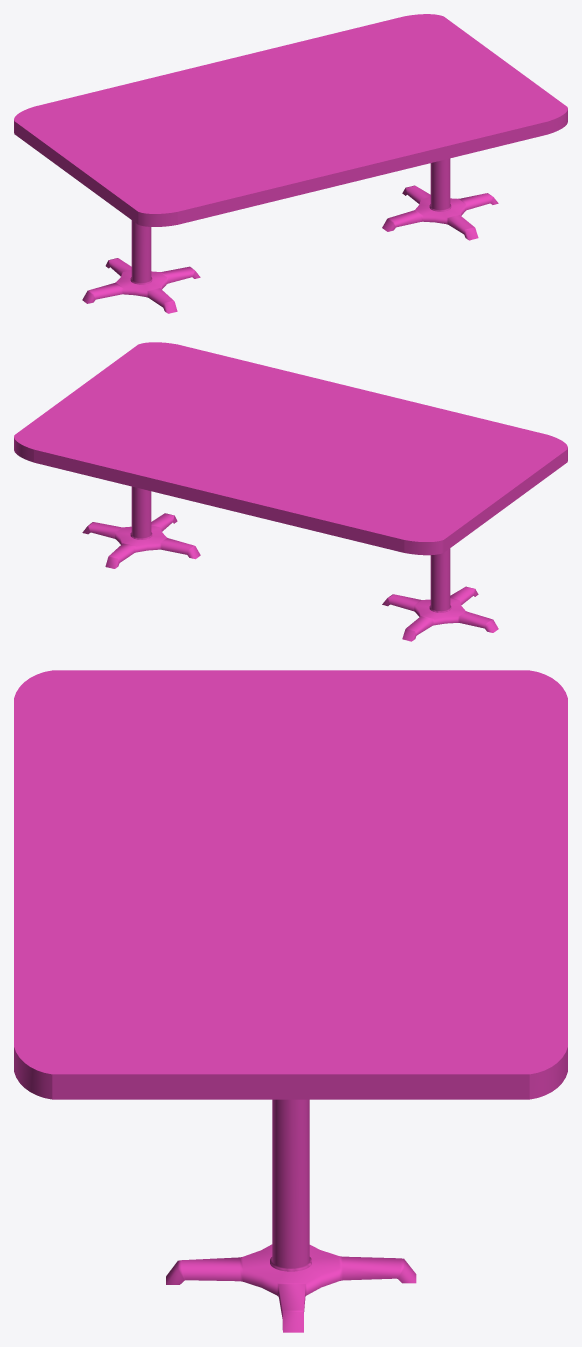
File: table_lowpoly.fbx
3 renders of one model, top to bottom at view 1: azimuth 30°, elevation 25°; view 2: azimuth 150°, elevation 25°; view 3: azimuth 270°, elevation 25°, orthographic. The views are drawn at different scales.
Visible parts, largest first — view 1: Table_lowpoly; view 2: Table_lowpoly; view 3: Table_lowpoly.
Part boxes in pixels (x1=…): Table_lowpoly: x1=14, y1=14, x2=567, y2=313; Table_lowpoly: x1=14, y1=342, x2=567, y2=641; Table_lowpoly: x1=14, y1=670, x2=567, y2=1332.
Size of the model in its own units: 571 by 176 by 331.
